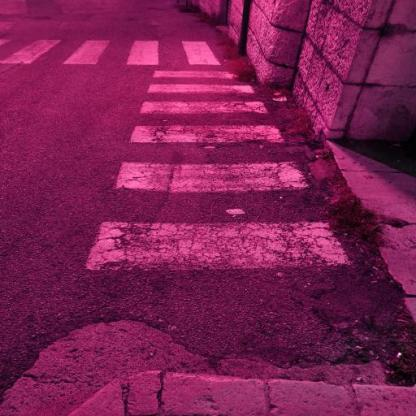crosswalk: (106, 119, 319, 204), (141, 68, 264, 97)
